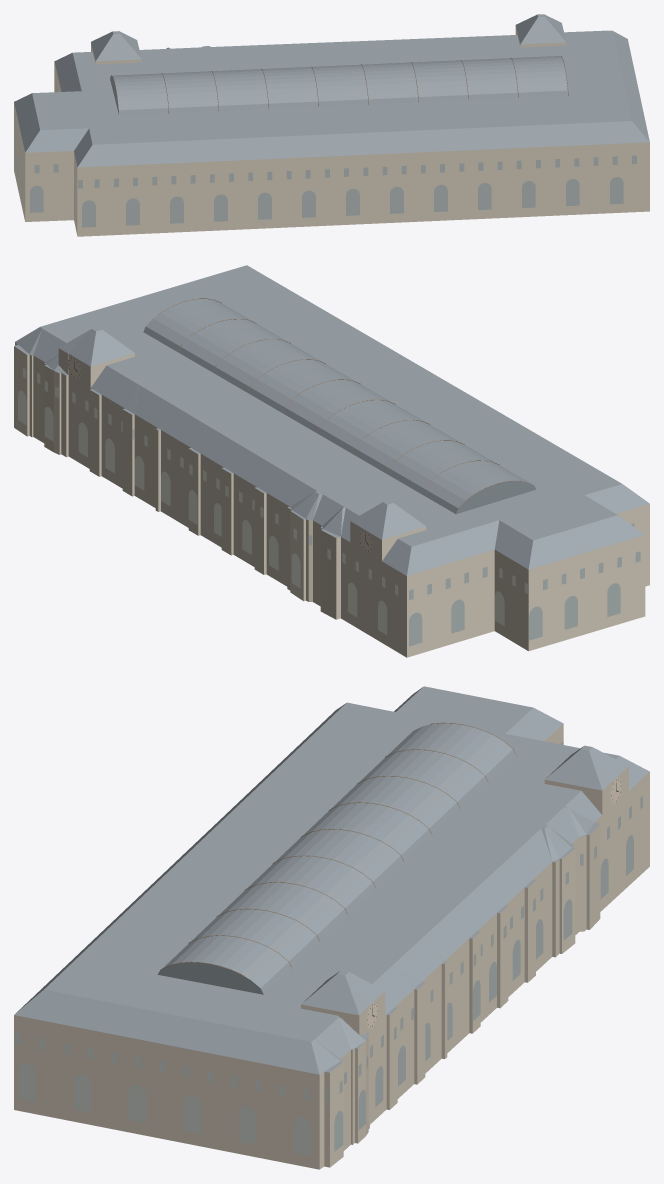
The picture shows the model from 3 angles, top to bottom: view 1: azimuth 30°, elevation 25°; view 2: azimuth 150°, elevation 25°; view 3: azimuth 270°, elevation 25°; orthographic projection. The views are drawn at different scales.
Visible parts, largest first — view 1: roof, stone, window, metal; view 2: roof, stone, window, metal; view 3: roof, stone, window, metal.
Boxes of the visible parts, x1,y1,x2,y2 form: roof: (14, 14, 649, 167); stone: (14, 26, 649, 236); window: (14, 76, 636, 227); metal: (110, 56, 568, 113); roof: (14, 265, 649, 575); stone: (14, 342, 649, 657); window: (18, 367, 640, 646); metal: (158, 298, 521, 513); roof: (14, 686, 649, 1074); stone: (14, 724, 649, 1169); window: (15, 741, 642, 1155); metal: (158, 722, 516, 975).
Size of the model in its own units: 198 by 35 by 140.
